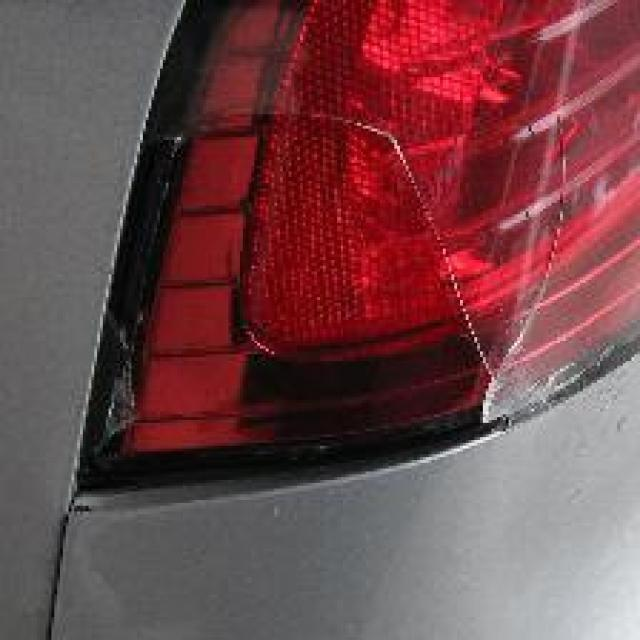damaged: (177, 94, 592, 429)
